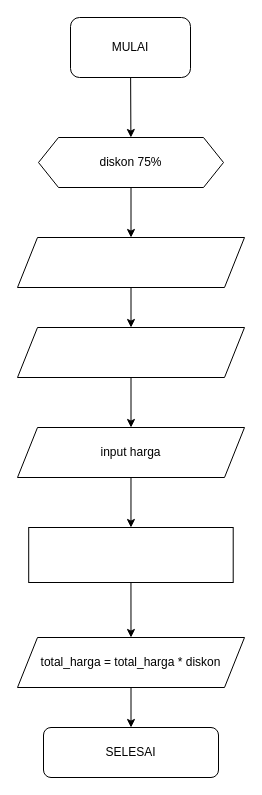
Some shapes in this 262 by 795 pixel diagram are drawn without their labels. Here are the shapes that lost their labels. From the top down, the centre of each, then its label:
At (x=130, y=262): "input nama_barang".
At (x=130, y=352): "input jumlah_barang".
At (x=130, y=554): "diskon = total_harga * diskon".
